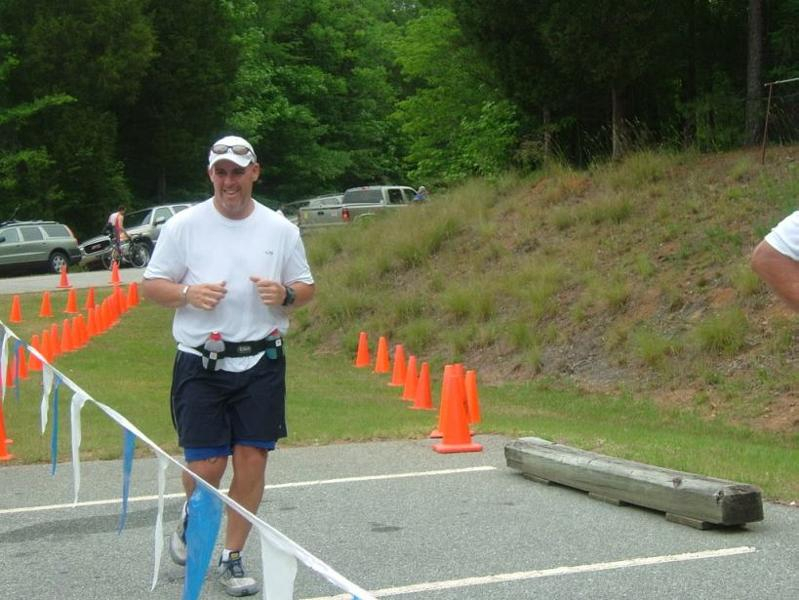person: (143, 133, 320, 600)
